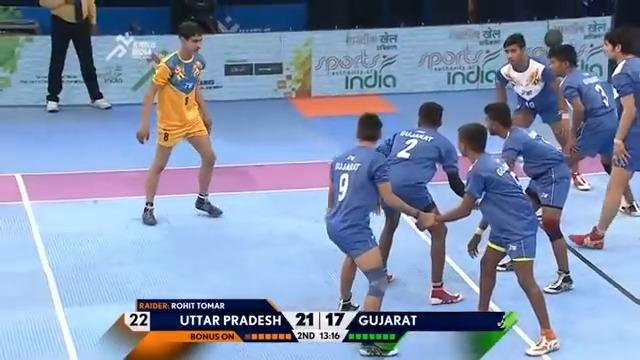Player: (433, 122, 560, 356), (324, 111, 434, 356), (373, 101, 468, 305), (478, 101, 574, 294), (567, 25, 639, 249), (493, 32, 571, 156), (38, 0, 112, 112)
Raider: (135, 20, 223, 225)
referee: (170, 0, 226, 34)
